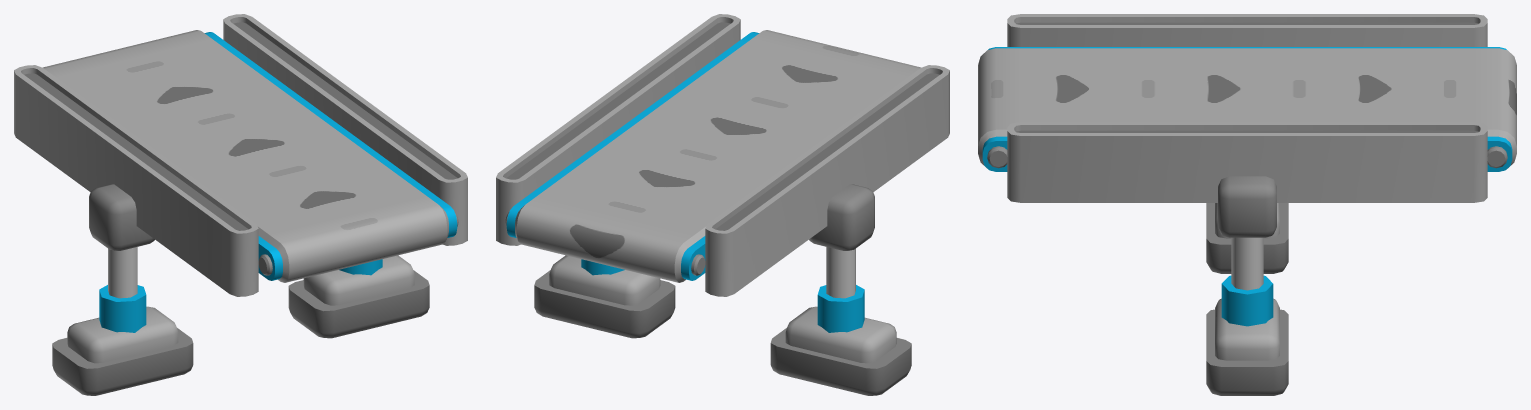
Rendered from Conveyor_Belt_2nd_S01_Cap_A.fbx.
The picture shows the model from 3 angles, left to right: view 1: azimuth 30°, elevation 25°; view 2: azimuth 150°, elevation 25°; view 3: azimuth 270°, elevation 25°; orthographic projection. The views are drawn at different scales.
Visible parts, largest first — view 1: Conveyor_Belt_2nd_S01_Cap_A; view 2: Conveyor_Belt_2nd_S01_Cap_A; view 3: Conveyor_Belt_2nd_S01_Cap_A.
Part boxes in pixels (<box>): Conveyor_Belt_2nd_S01_Cap_A: <box>14,14,467,395</box>; Conveyor_Belt_2nd_S01_Cap_A: <box>496,14,949,395</box>; Conveyor_Belt_2nd_S01_Cap_A: <box>978,14,1516,395</box>.
Size of the model in its own units: 189 by 115 by 238.
